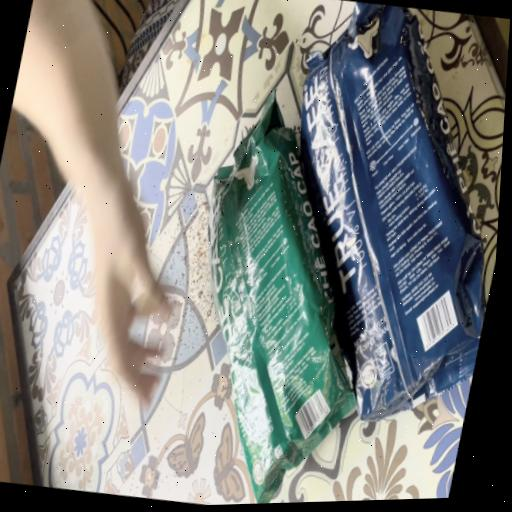cafe_xay: (301, 1, 491, 420), (208, 92, 356, 503)
